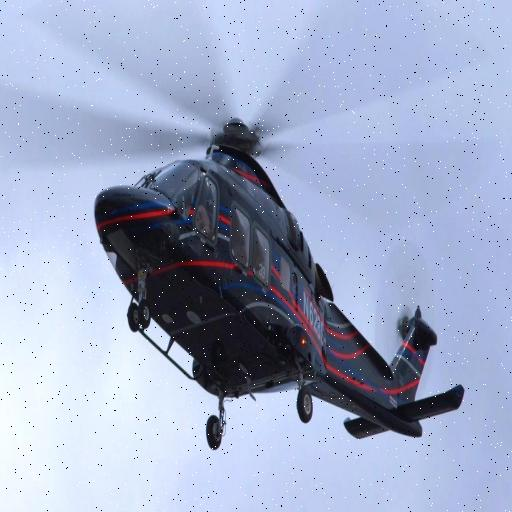helicopter: (46, 35, 467, 468)
